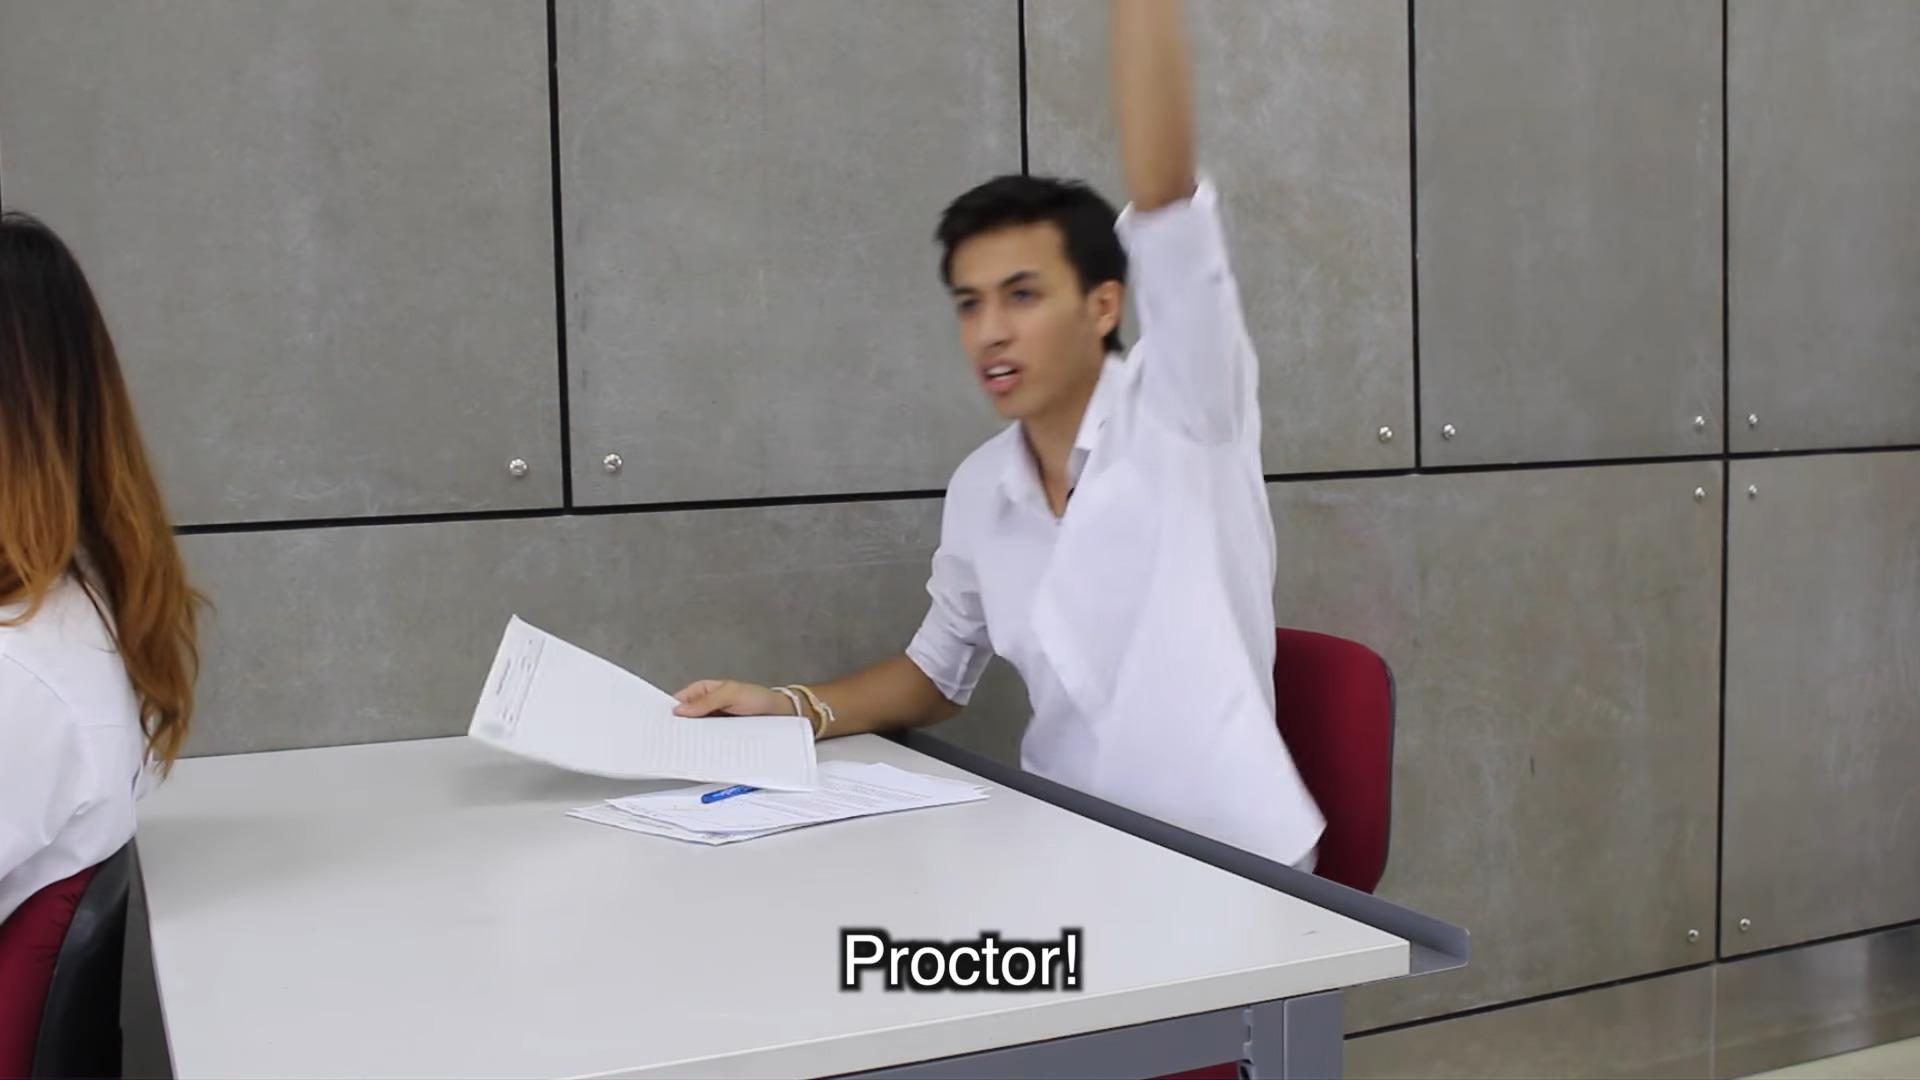good: (430, 0, 1365, 898)
